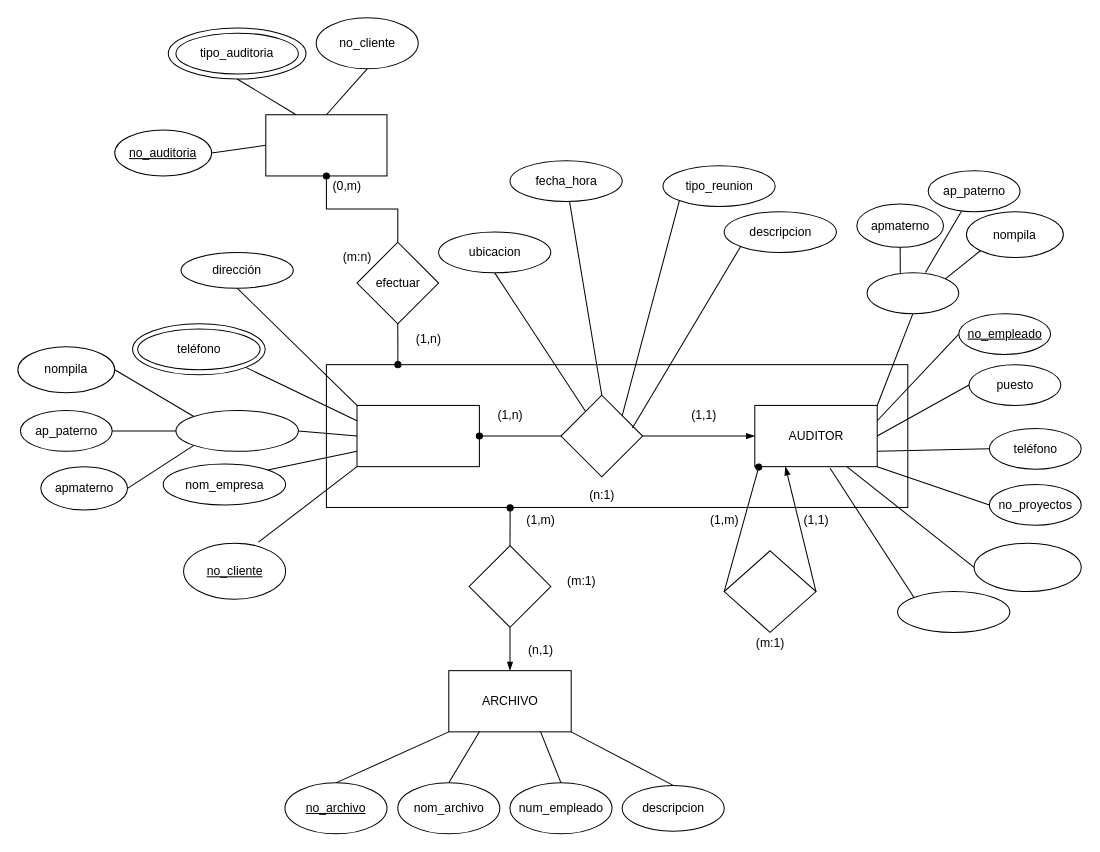
The diagram is 1100 pixels wide and 852 high, and some of its shapes have lost their labels. Each missing label, with the centre of its shape:
"AUDITORIA" belongs at [326,145].
"CLIENTE" belongs at [417,435].
"contraseña_empre" belongs at [1027,567].
"lider" belongs at [769,591].
"nivel_usuario" belongs at [953,611].
"nombre" belongs at [912,293].
"nombre_cliente" belongs at [236,430].
"reunir" belongs at [601,435].
"surgir" belongs at [509,586].
